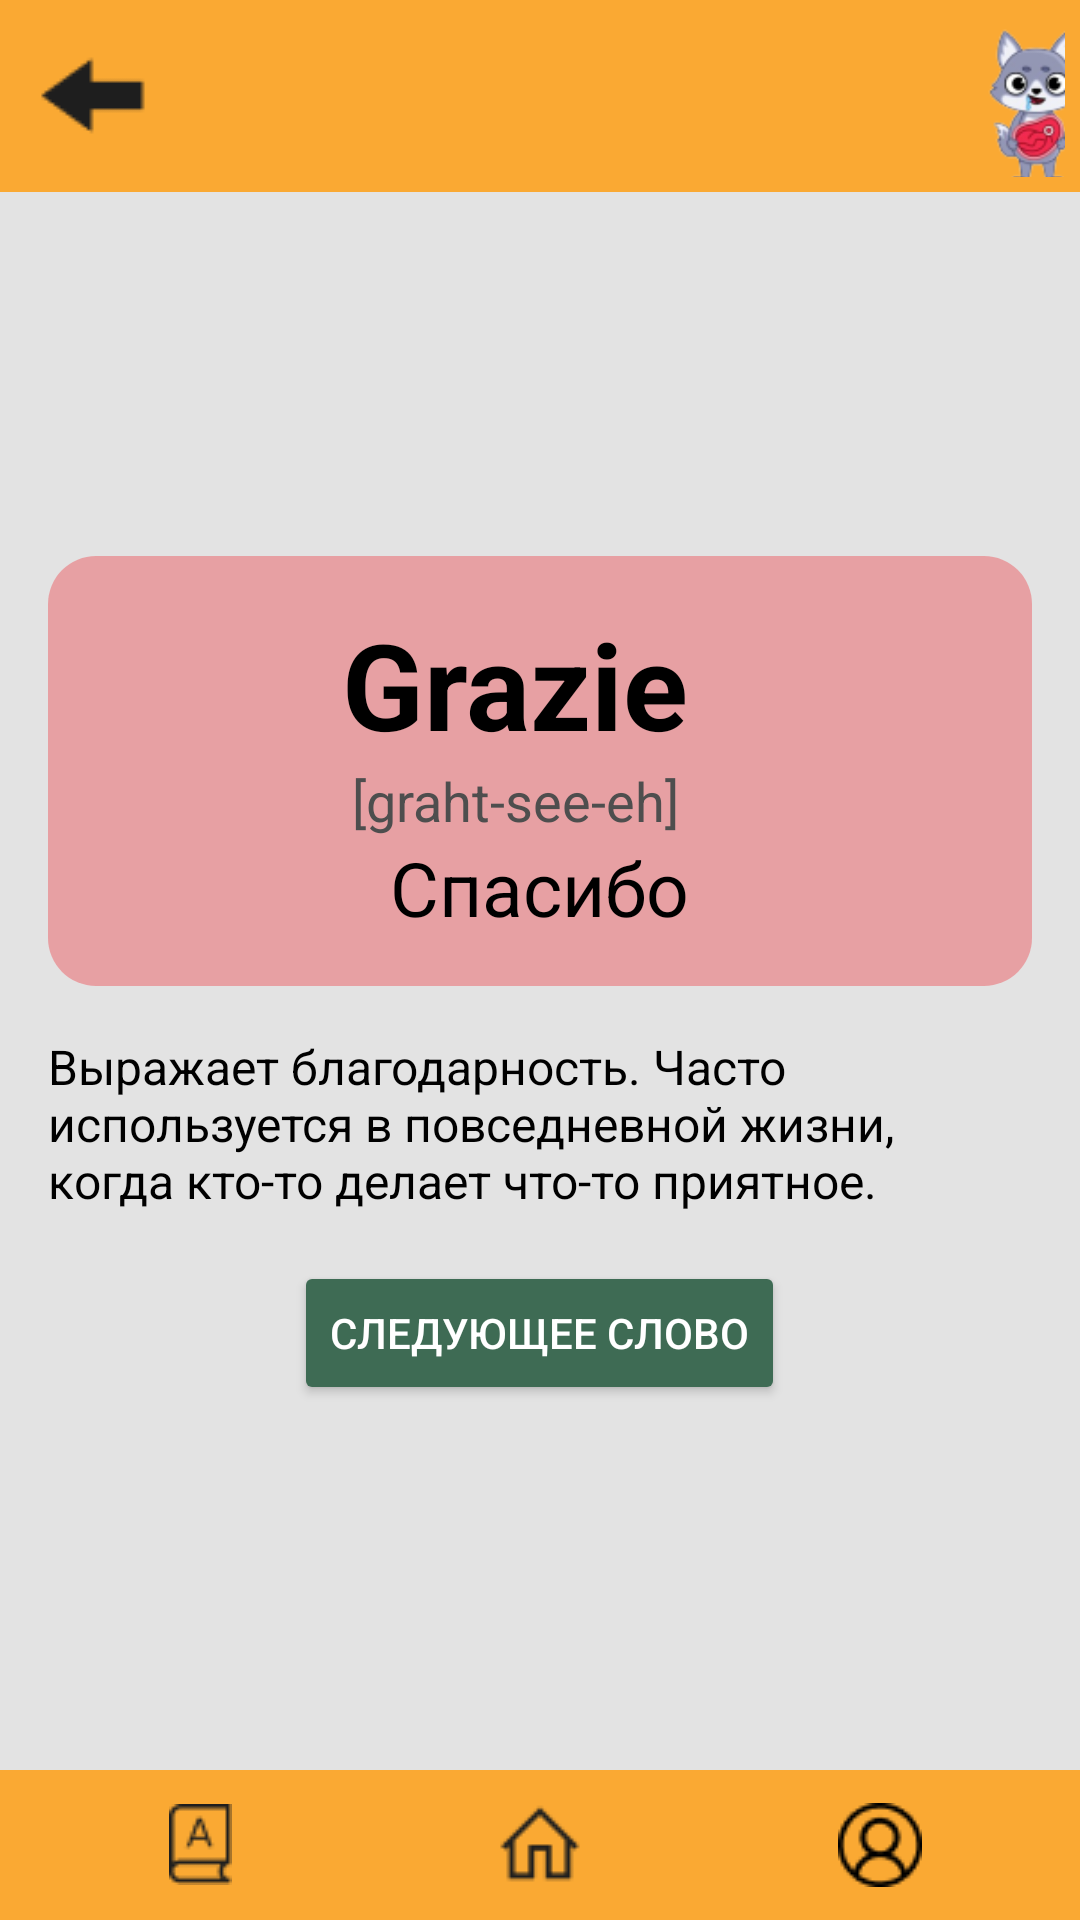

Named icons in this screenshot (1080x1920) and their centers, (x,y):
Аккаунт: (880,1845)
Главная: (540,1844)
Назад: (93,95)
Словарь: (200,1844)
